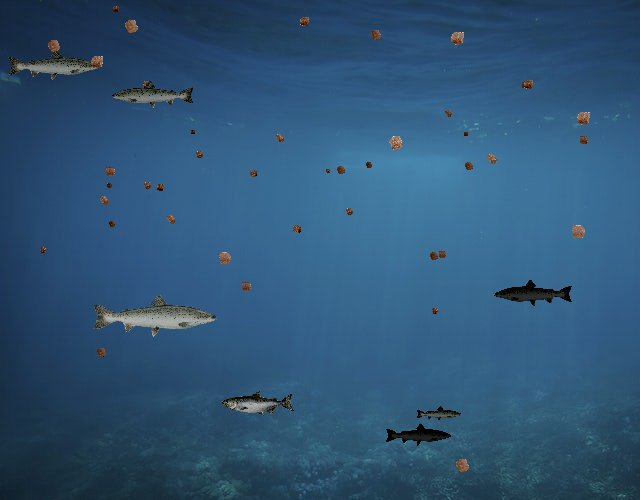Fish: (90, 292, 219, 338), (7, 49, 101, 83), (110, 79, 196, 110), (494, 278, 575, 308), (223, 390, 296, 417), (384, 423, 452, 447), (416, 405, 463, 422)
Pellet: (443, 25, 472, 54), (569, 105, 597, 133), (294, 12, 315, 33), (459, 157, 478, 176), (341, 203, 358, 220), (428, 304, 442, 318), (36, 243, 50, 257)
